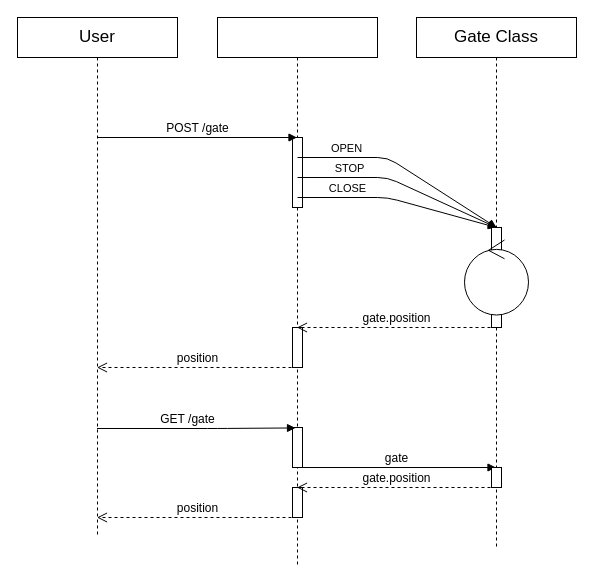
This 594x585 diagram has some shape labels left out. The centre of each missing label's shape, as x and y in pixels:
"ACTIVATE GPIO PIN" belongs at (496,277).
"API EndPoint" belongs at (297,292).
